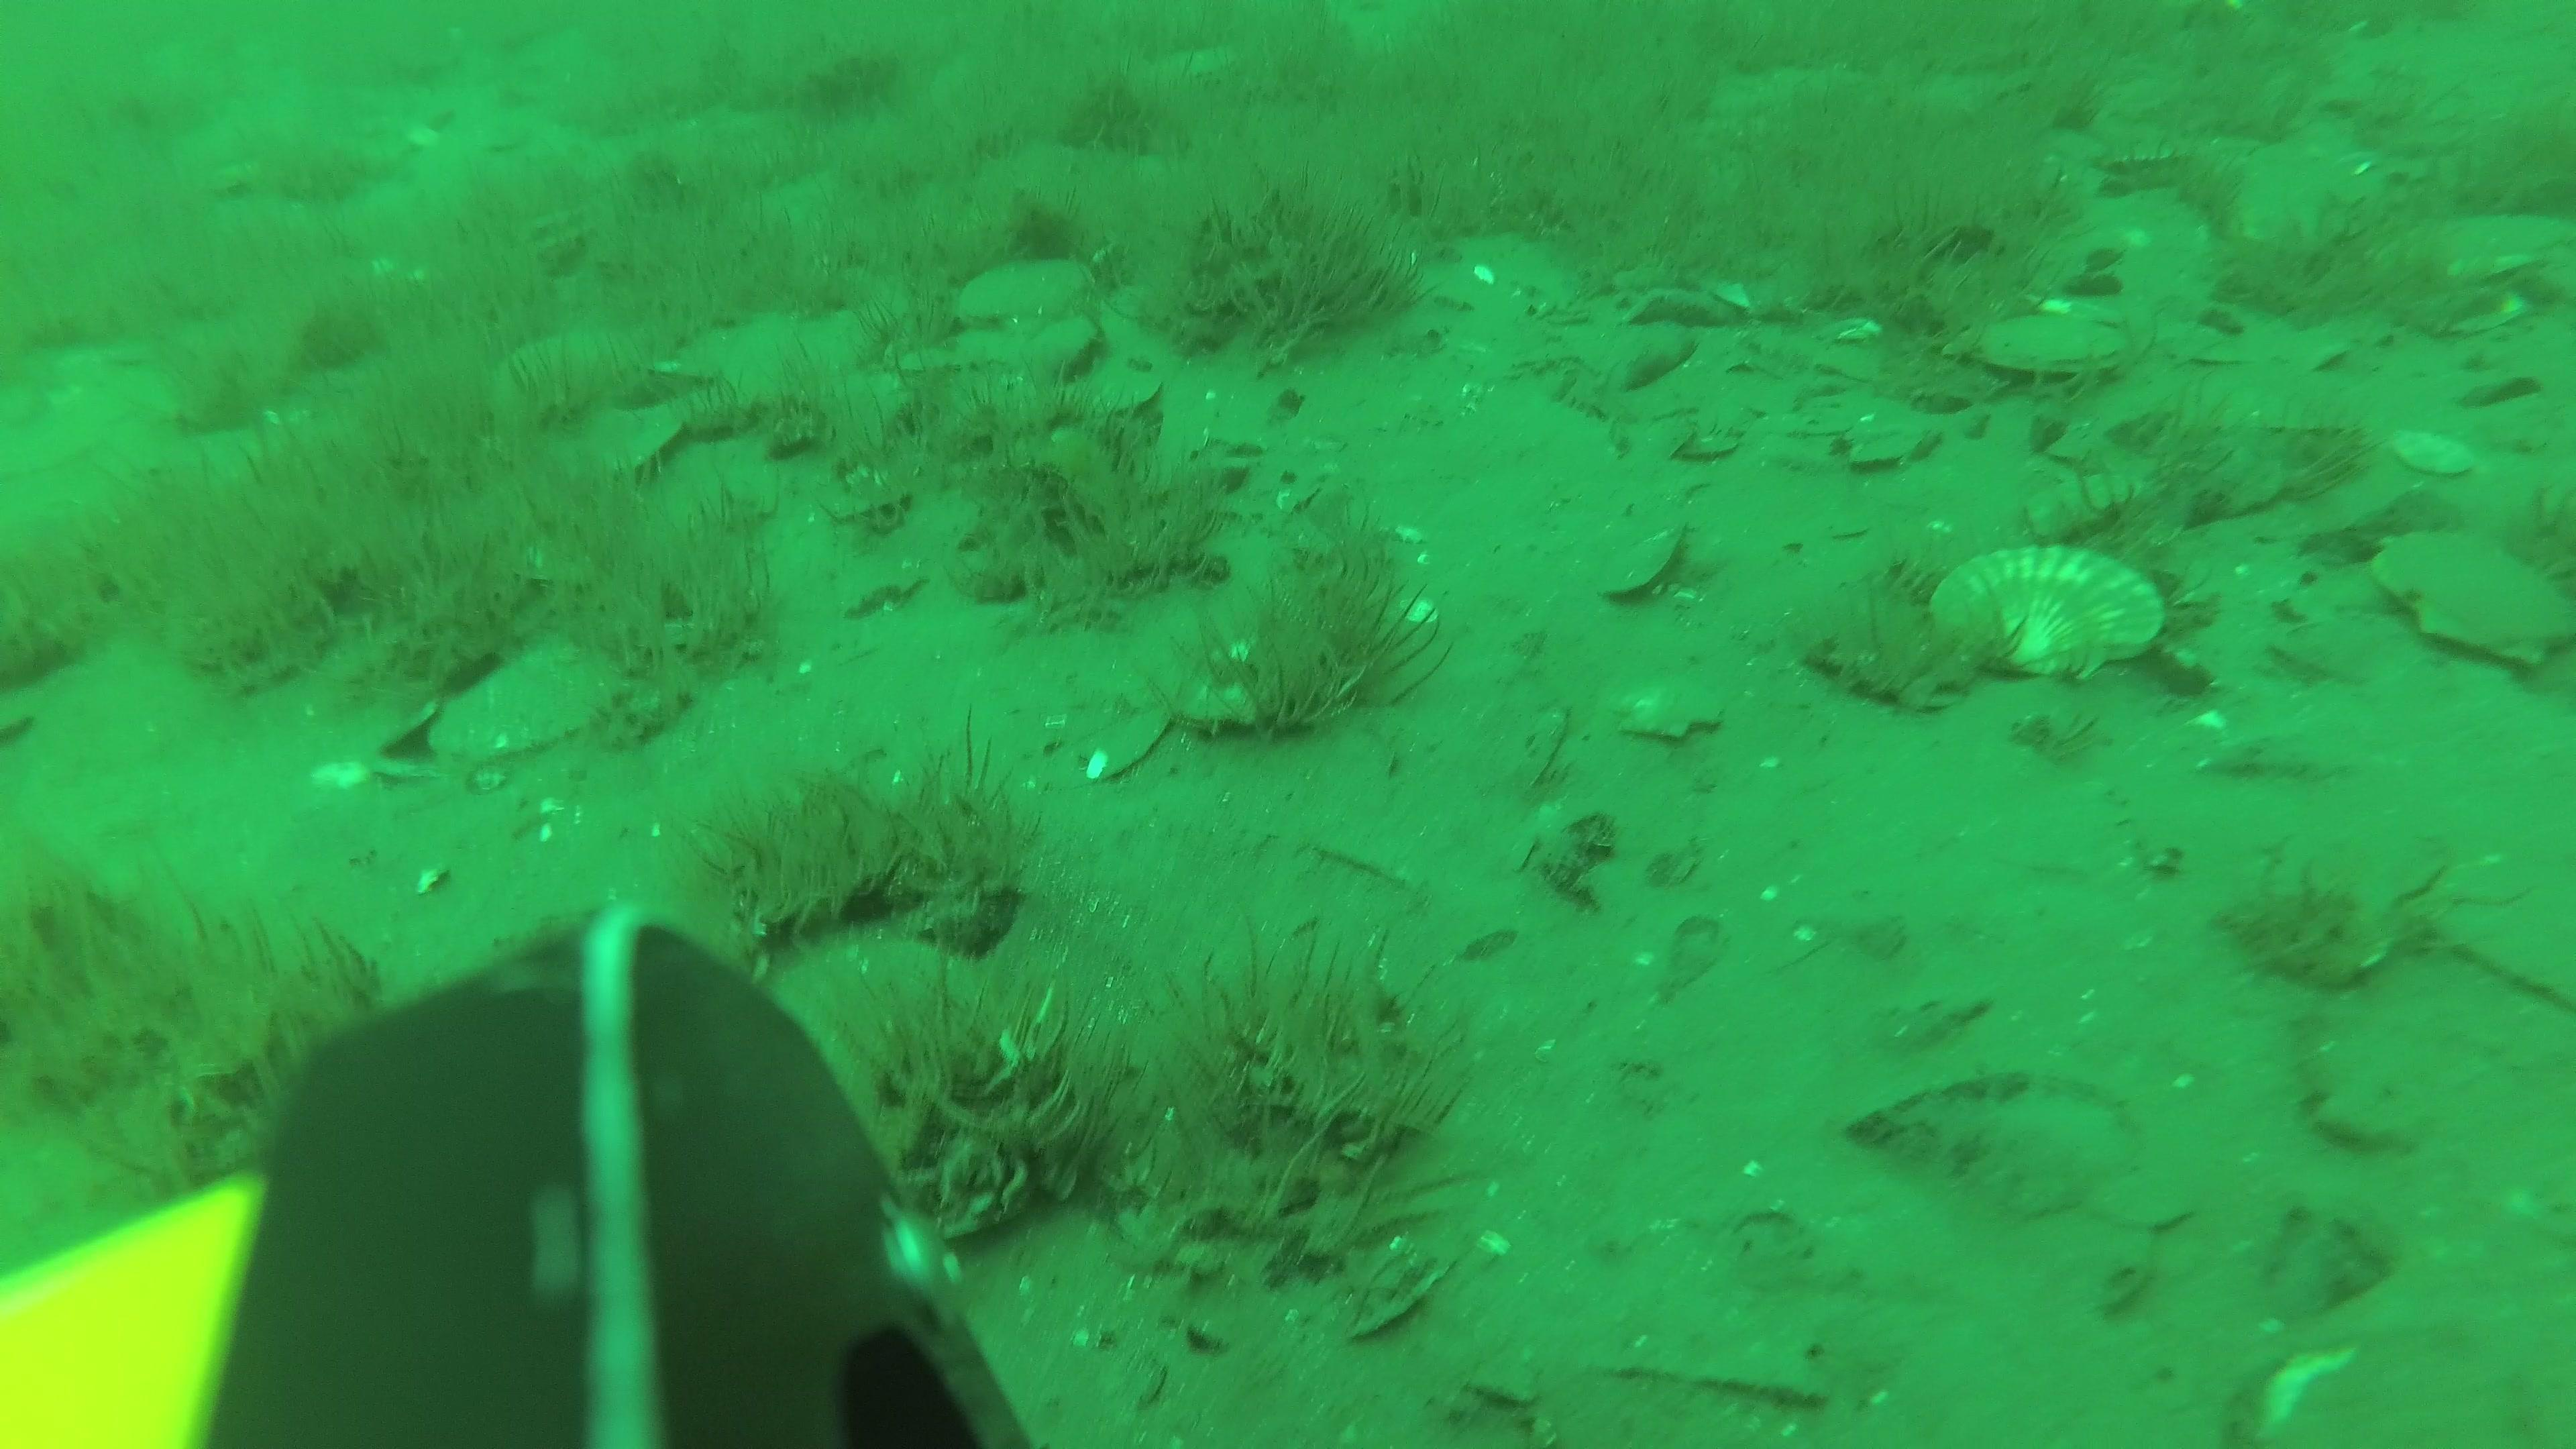scallop: (1928, 536, 2169, 688), (2369, 524, 2576, 679), (2420, 885, 2576, 1060), (433, 633, 630, 771), (2401, 205, 2576, 292), (1955, 308, 2139, 384), (954, 255, 1100, 341), (1608, 665, 1736, 748), (1152, 653, 1279, 736), (2235, 389, 2362, 465), (1596, 515, 1691, 610), (1826, 414, 1937, 485), (2396, 419, 2484, 488), (1010, 324, 1093, 384), (1074, 373, 1171, 425), (2160, 310, 2235, 375), (1660, 421, 1744, 472)
